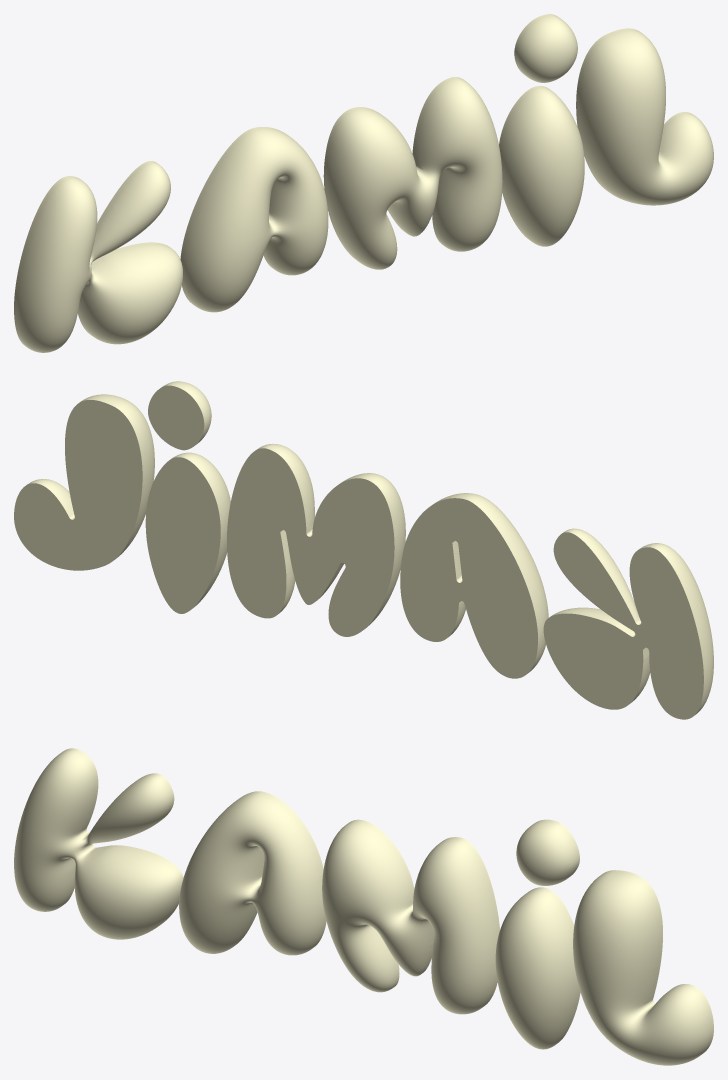
Rendered from kamil.obj.
The picture shows the model from 3 angles, top to bottom: view 1: azimuth 30°, elevation 25°; view 2: azimuth 150°, elevation 25°; view 3: azimuth 330°, elevation 25°; orthographic projection.
Visible parts, largest first — view 1: groupNumber_1, groupNumber_3, groupNumber_2, groupNumber_0, groupNumber_5, groupNumber_4; view 2: groupNumber_1, groupNumber_3, groupNumber_2, groupNumber_0, groupNumber_5, groupNumber_4; view 3: groupNumber_1, groupNumber_3, groupNumber_2, groupNumber_0, groupNumber_5, groupNumber_4.
Part boxes in pixels (x1,y1,x2,y2): groupNumber_1: (323, 77, 502, 269); groupNumber_3: (14, 161, 182, 352); groupNumber_2: (180, 127, 328, 312); groupNumber_0: (576, 28, 713, 205); groupNumber_5: (499, 85, 584, 246); groupNumber_4: (514, 14, 577, 82); groupNumber_1: (227, 443, 405, 636); groupNumber_3: (543, 528, 713, 719); groupNumber_2: (400, 493, 548, 678); groupNumber_0: (14, 394, 154, 570); groupNumber_5: (145, 452, 230, 613); groupNumber_4: (148, 381, 211, 450); groupNumber_1: (322, 819, 499, 1014); groupNumber_3: (14, 748, 183, 939); groupNumber_2: (179, 791, 326, 955); groupNumber_0: (573, 870, 713, 1065); groupNumber_5: (495, 887, 580, 1049); groupNumber_4: (516, 819, 579, 885).
Size of the model in its own units: 58.17 by 18.23 by 4.38.
